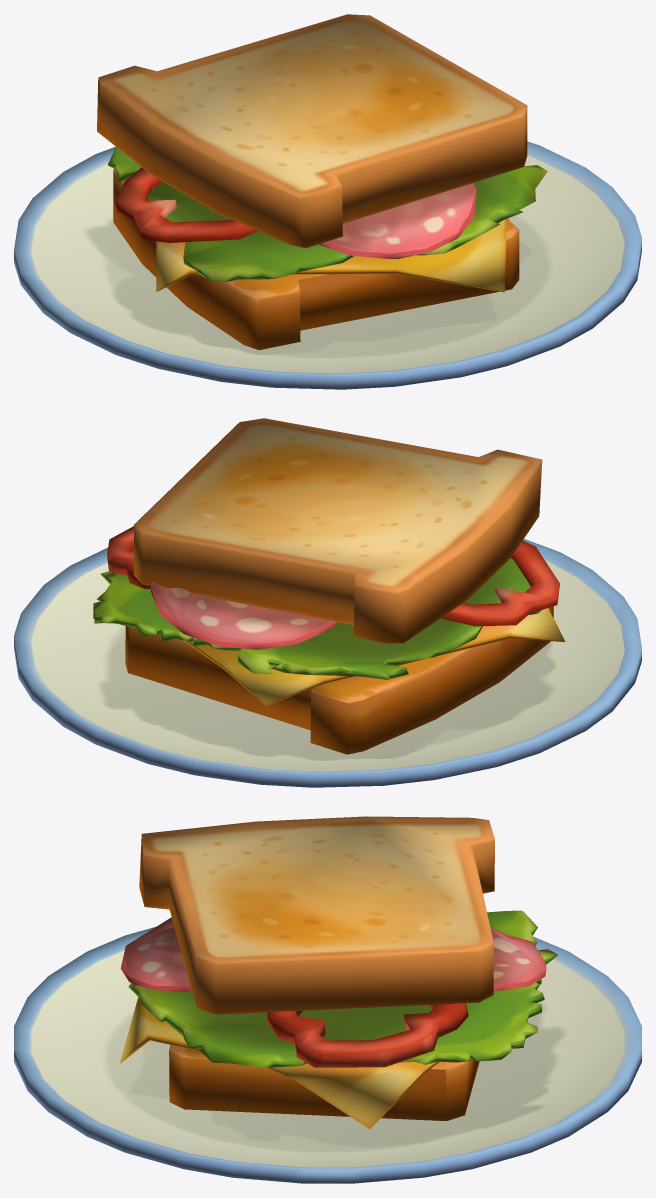
The model's file is food.fbx.
3 views of the same model, one above another, from view 1: azimuth 30°, elevation 25°; view 2: azimuth 150°, elevation 25°; view 3: azimuth 270°, elevation 25° (orthographic).
Visible parts, largest first — view 1: Vert, Cylinder; view 2: Vert, Cylinder; view 3: Vert, Cylinder.
Boxes of the visible parts, x1,y1,x2,y2 form: Vert: (97, 14, 547, 350); Cylinder: (14, 141, 641, 389); Vert: (93, 418, 565, 754); Cylinder: (14, 539, 641, 787); Vert: (120, 816, 557, 1129); Cylinder: (14, 927, 641, 1183).
Bounding box in the file's own units: 146 × 45.9 × 146.
